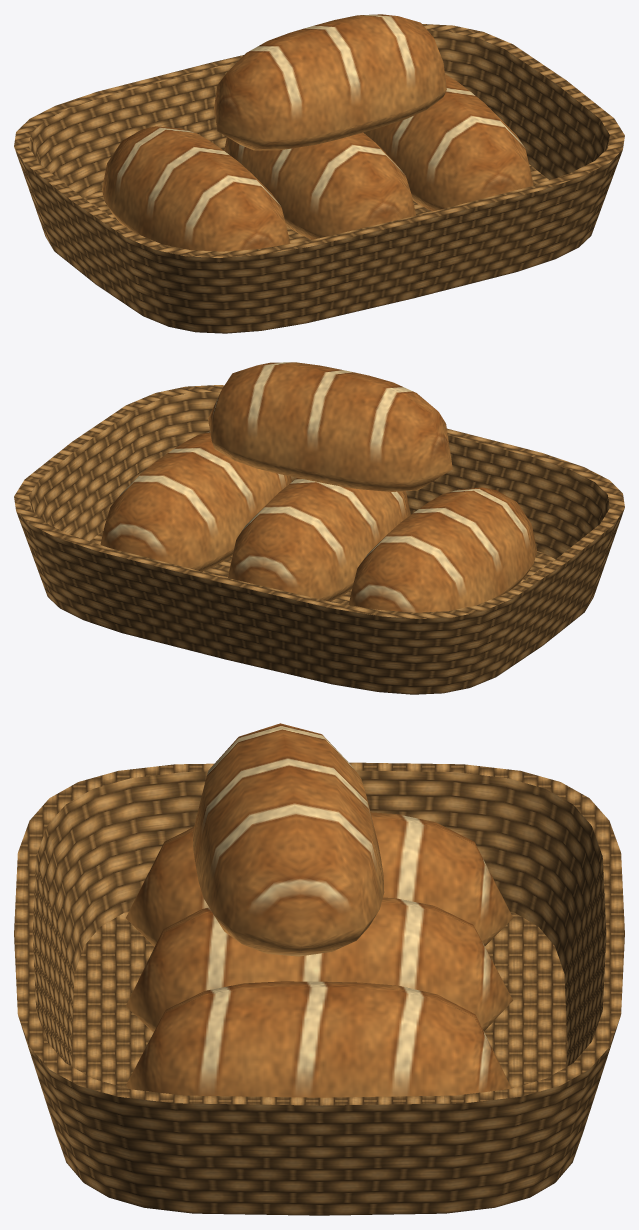
The model's file is sk_bakery_basket_bread.fbx.
3 renders of one model, top to bottom at view 1: azimuth 30°, elevation 25°; view 2: azimuth 150°, elevation 25°; view 3: azimuth 270°, elevation 25°, orthographic. The views are drawn at different scales.
Visible parts, largest first — view 1: sk_bakery_basket_bread; view 2: sk_bakery_basket_bread; view 3: sk_bakery_basket_bread.
Boxes of the visible parts, x1,y1,x2,y2 form: sk_bakery_basket_bread: [14, 14, 624, 333]; sk_bakery_basket_bread: [14, 362, 624, 694]; sk_bakery_basket_bread: [14, 723, 624, 1215].
Size of the model in its own units: 0.524 by 0.2122 by 0.394.
Materials: 2 (2 with a texture image).
